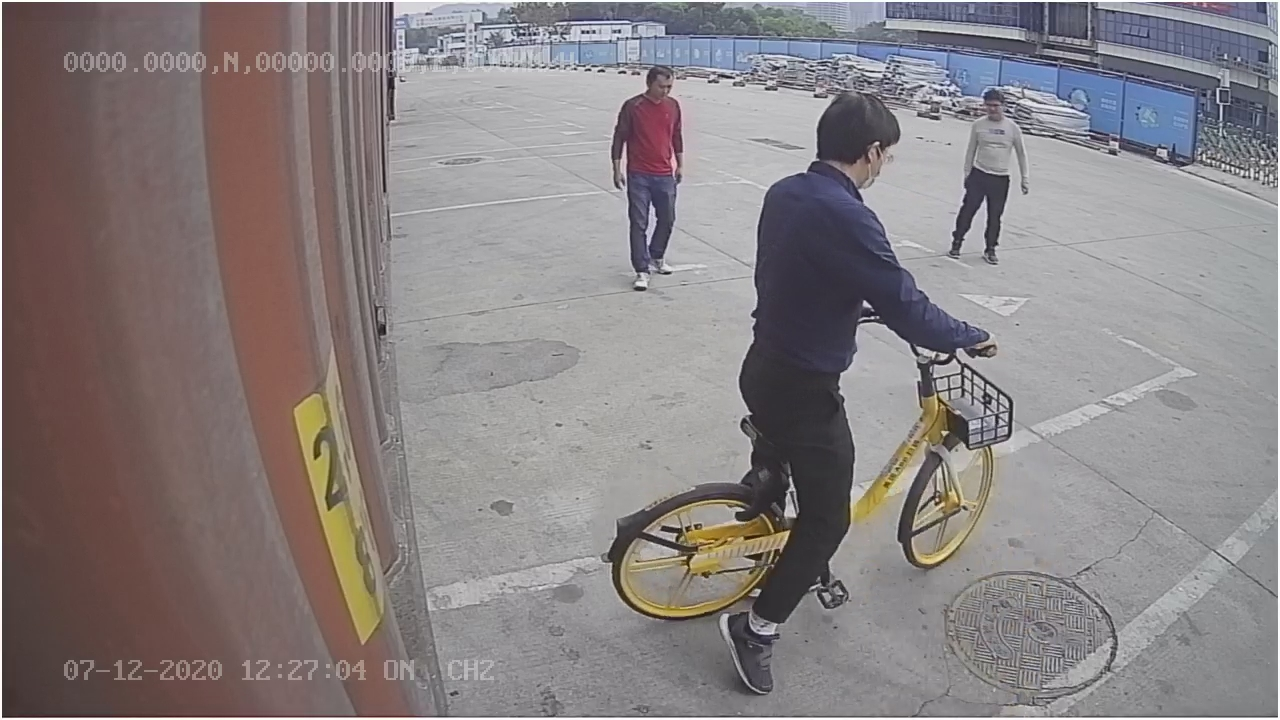person: (601, 60, 692, 297)
